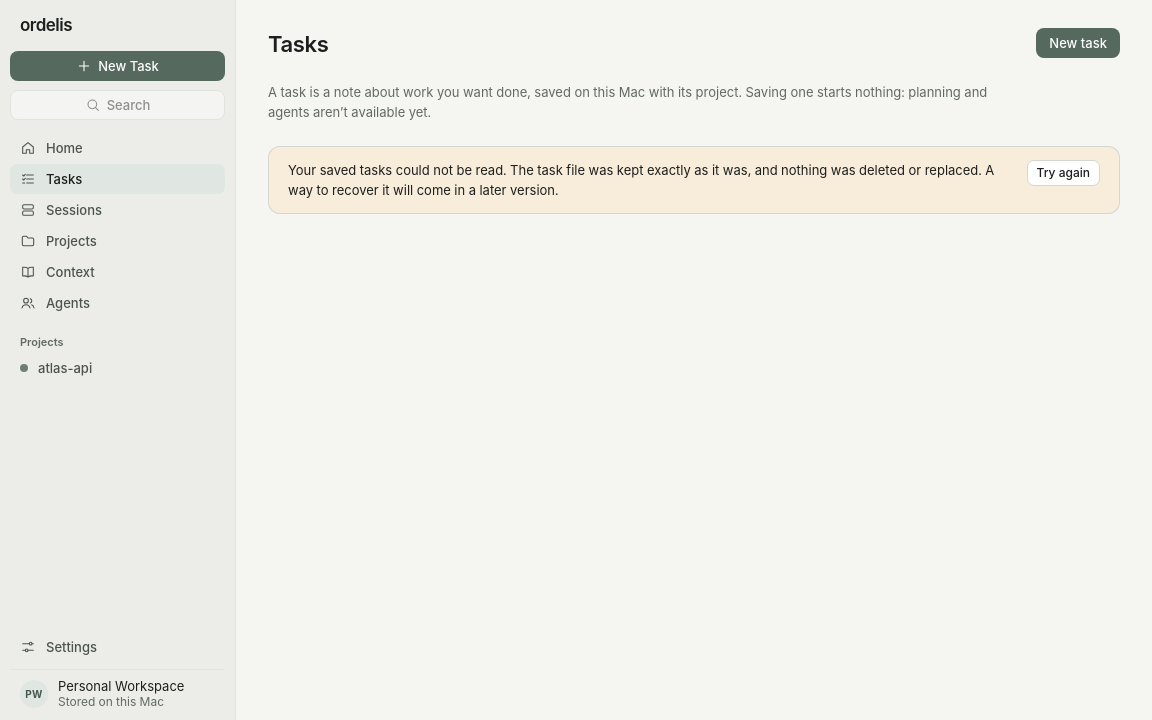
Tasks page › shows corrupt storage as an error that says the file was kept, never as an empty list, and offers no reset
Expected: the message shows "kept exactly as it was", [288,162,994,198]
Expected: the message does not show "Fixed native message", [268,146,1120,214]
// Projects stay usable.
Click the link "Projects".
click(58, 241)  # box [20,233,97,249]
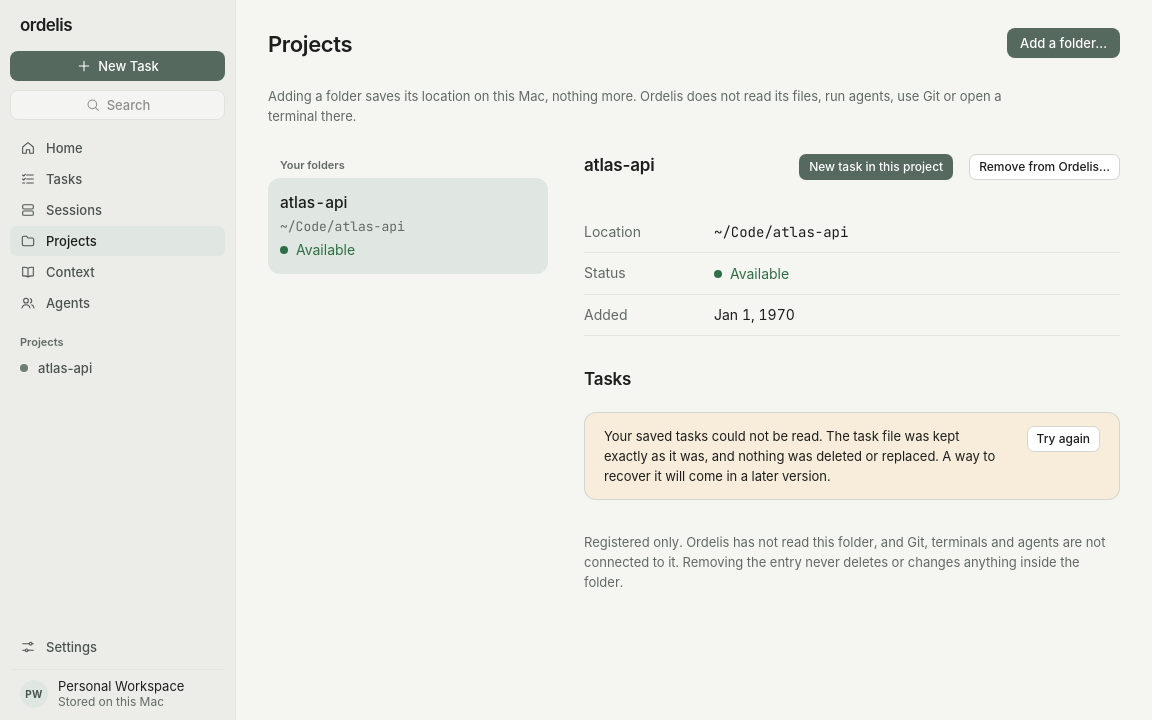
Result: the button "atlas-api ~/Code/atlas-api Available" is shown at [268,178,548,274]
// Retrying reads the list again once it can be read.
Click the link "Tasks".
click(51, 179)  # box [20,171,82,187]
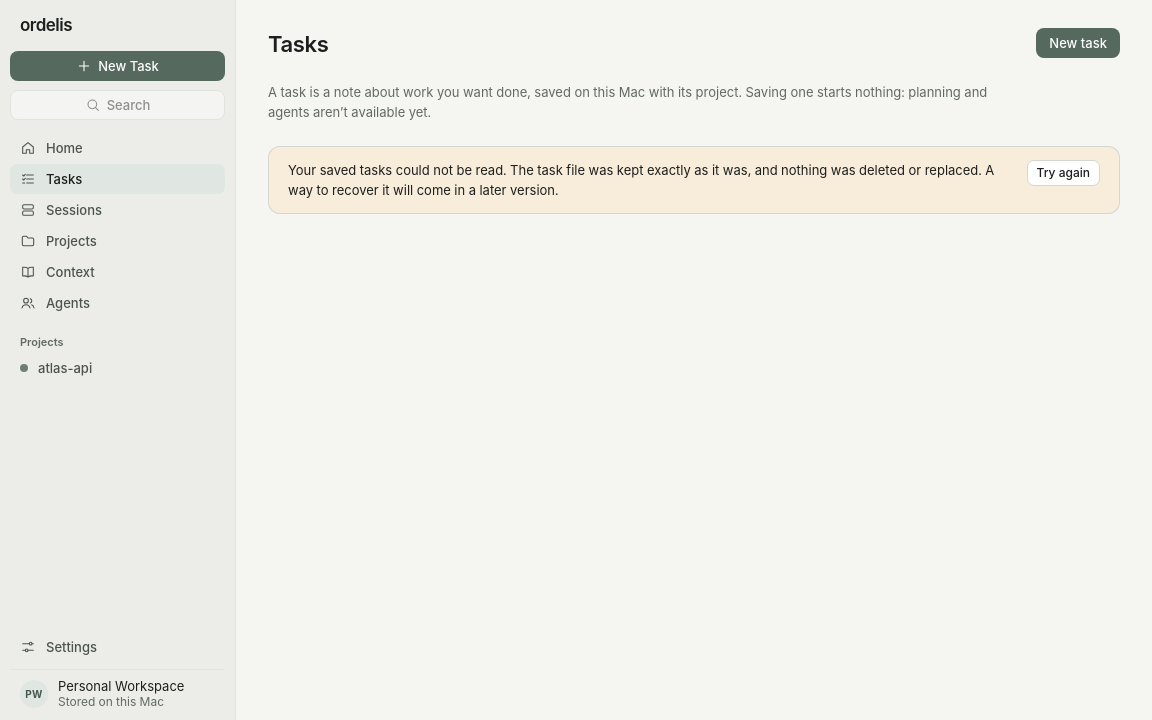
Click the button "Try again".
click(1063, 173)  # box [1027,160,1100,186]
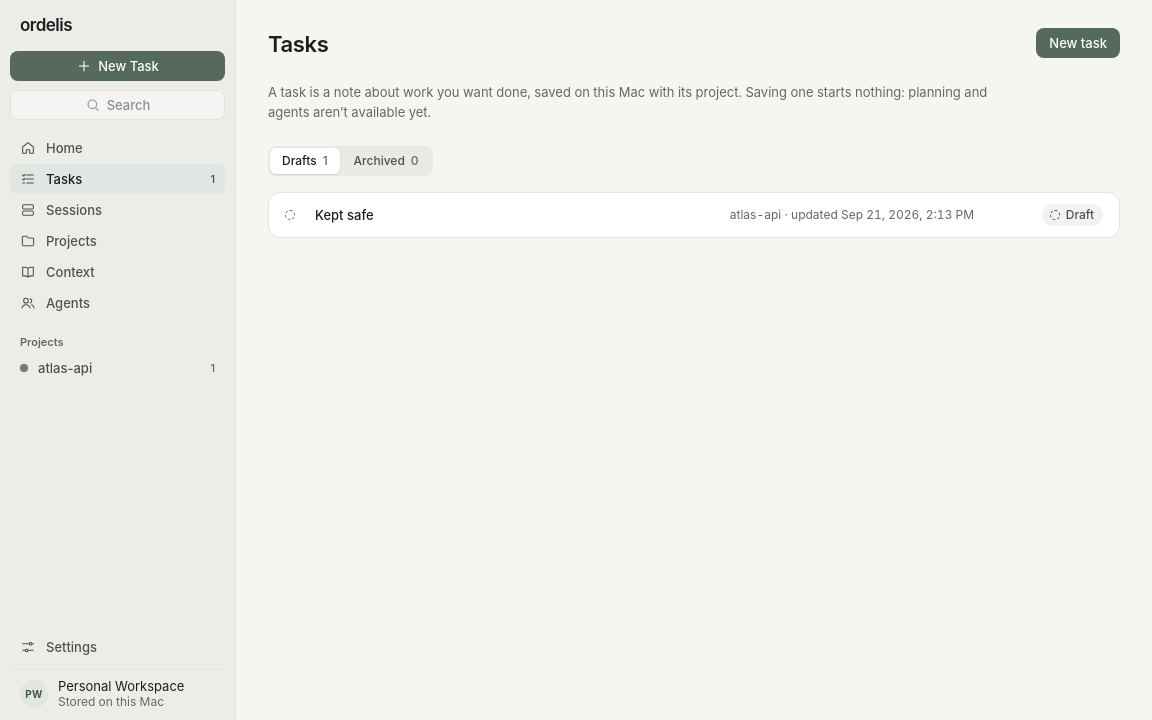
Result: the link "Kept safe atlas-api · updated Sep 21, 2026, 2:13 PM Draft" is shown at [285,204,1103,226]
